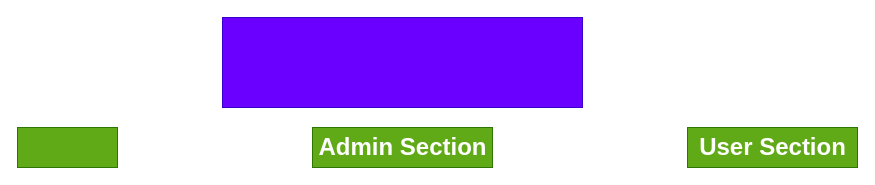
Image size: 875x185. Some labels were removed from this diagram. Here are the shapes that lost their labels. From the top down, the box of each, then its label:
(222, 16, 582, 108): Data Base
(16, 126, 118, 168): Books
